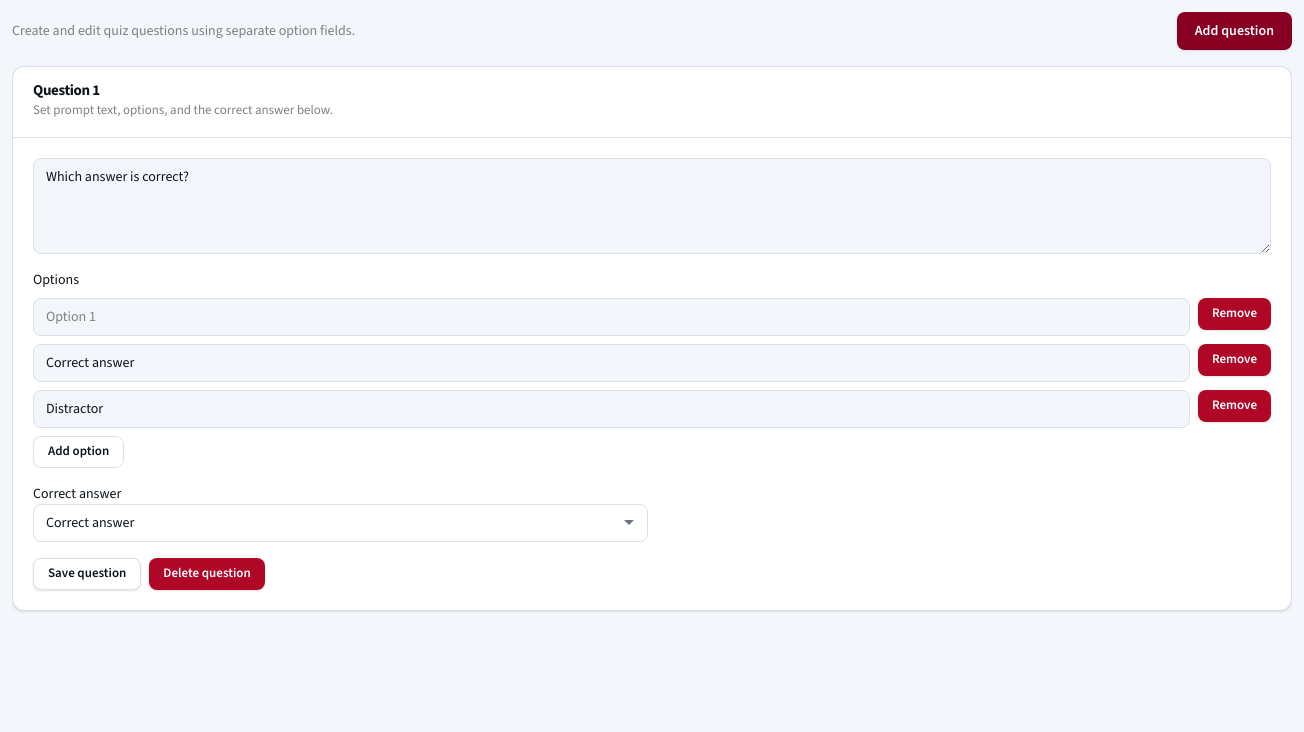
AdminLessonQuestionManager › translates the correct answer index after removing blank options
Click the button "Save question" at (87, 574), box [33,558,141,590]
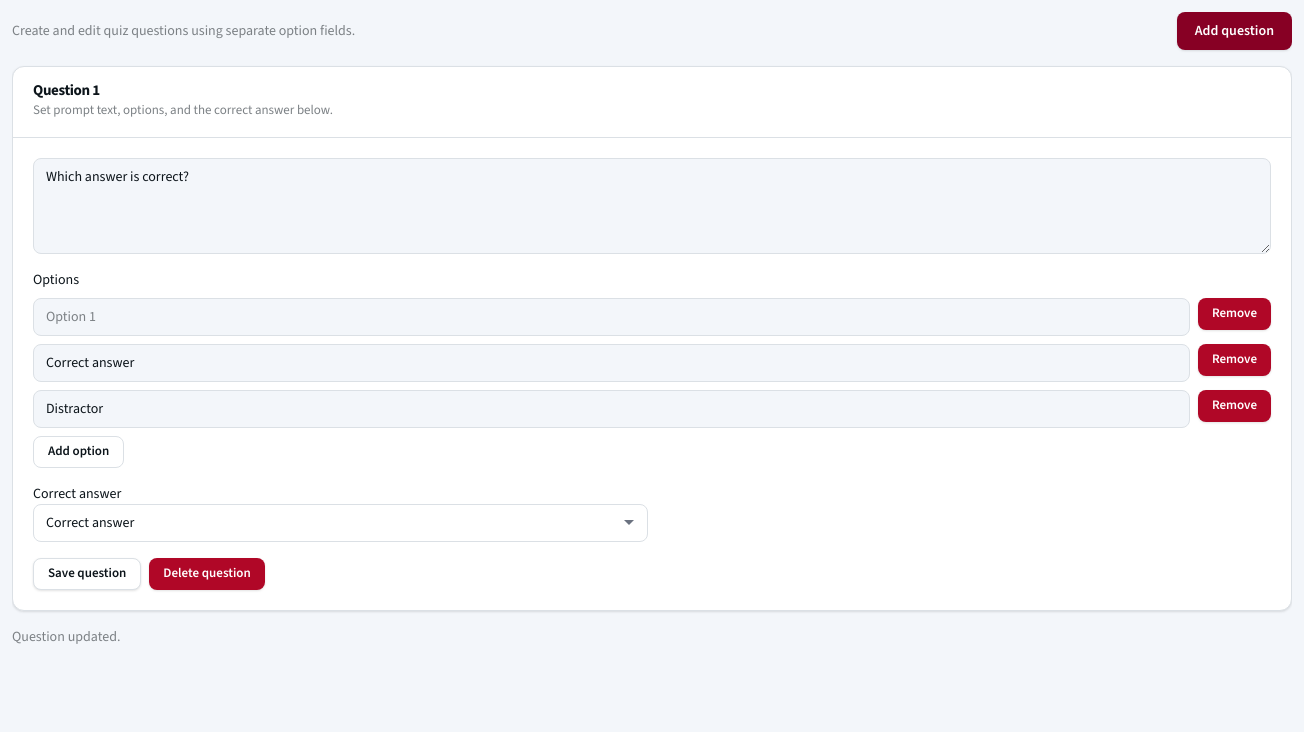
Now the text "Question updated." is shown, box [12,627,120,646]
